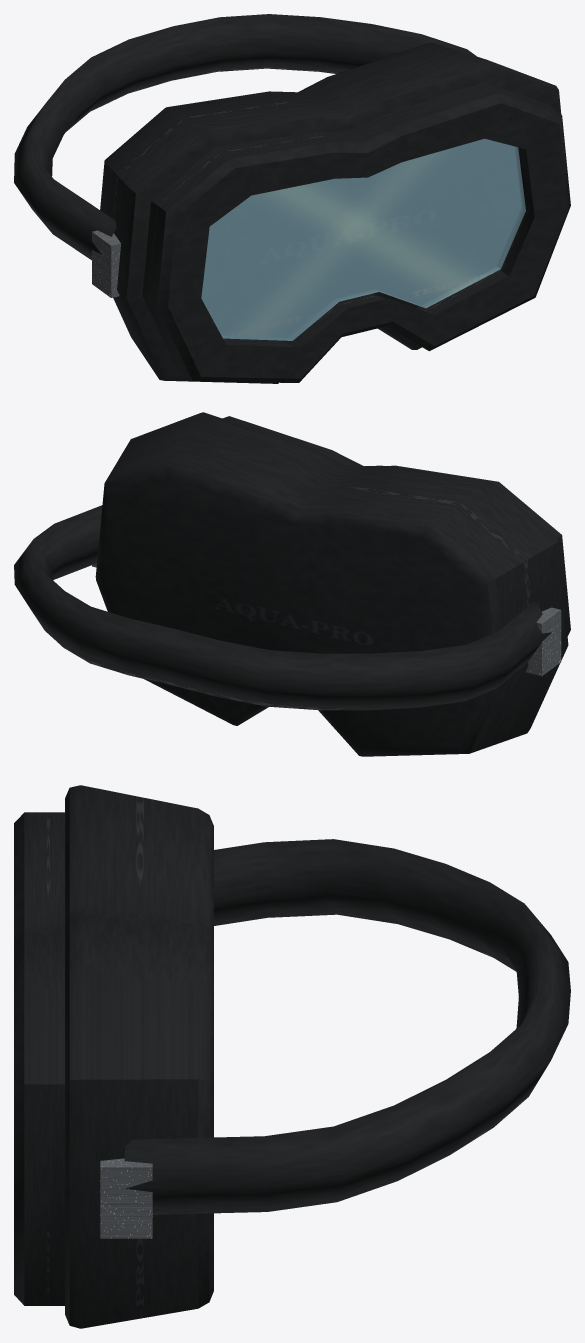
Rendered from divemask.obj.
The picture shows the model from 3 angles, top to bottom: view 1: azimuth 30°, elevation 25°; view 2: azimuth 150°, elevation 25°; view 3: azimuth 270°, elevation 25°; orthographic projection. The views are drawn at different scales.
Visible parts, largest first — view 1: divemask_0_surface, divemask_1_glass, divemask_2_surface; view 2: divemask_0_surface, divemask_2_surface; view 3: divemask_0_surface, divemask_2_surface.
Boxes of the visible parts, left/top/right/bottom form: divemask_0_surface: left=14, top=14, right=570, bottom=383; divemask_1_glass: left=201, top=138, right=525, bottom=340; divemask_2_surface: left=92, top=230, right=120, bottom=297; divemask_0_surface: left=14, top=412, right=570, bottom=756; divemask_2_surface: left=92, top=563, right=561, bottom=676; divemask_0_surface: left=14, top=785, right=570, bottom=1328; divemask_2_surface: left=100, top=1158, right=152, bottom=1238.
Size of the model in its own units: 0.286 by 0.1557 by 0.213.
3 materials, 3 textured.
